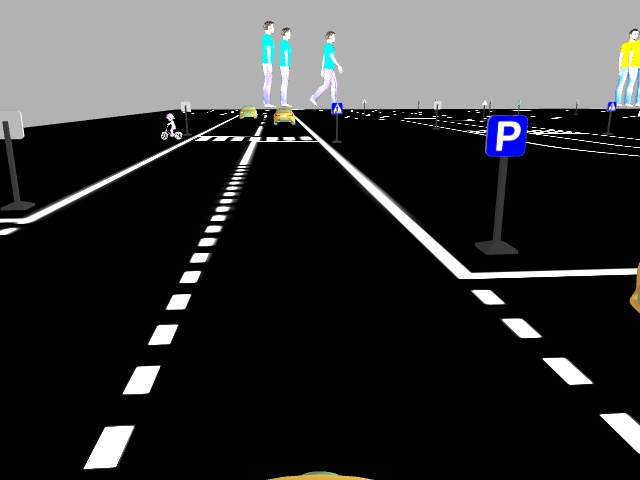Crosswalk: (328, 101, 343, 114)
Parking: (485, 112, 530, 157)
